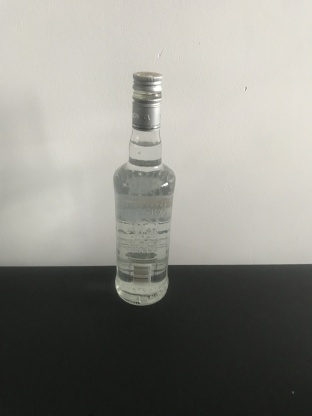nakretka: (130, 69, 164, 131)
